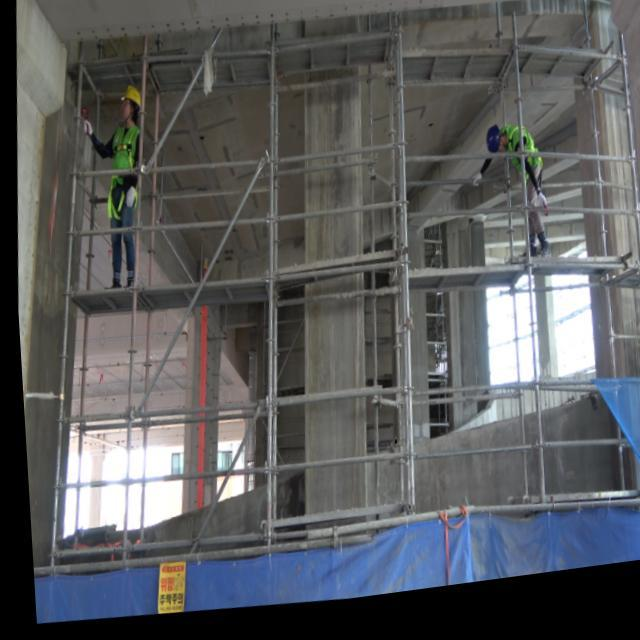belt: (102, 128, 140, 226), (497, 135, 543, 204)
